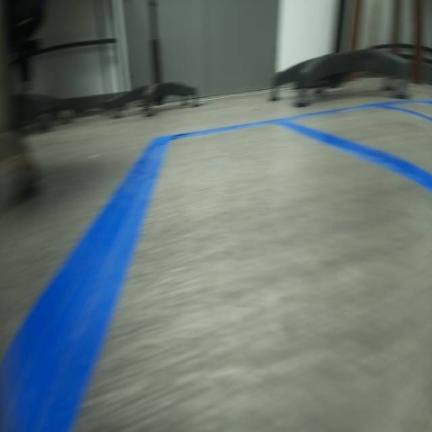place: (0, 116, 431, 431), (274, 100, 431, 195)
